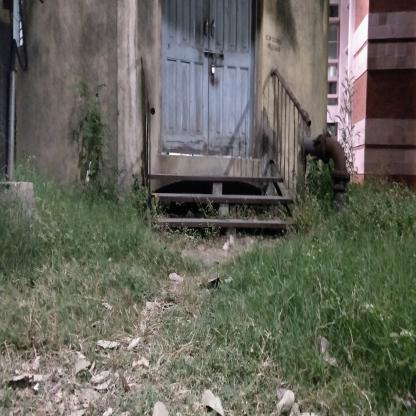stairs: (155, 173, 291, 239)
